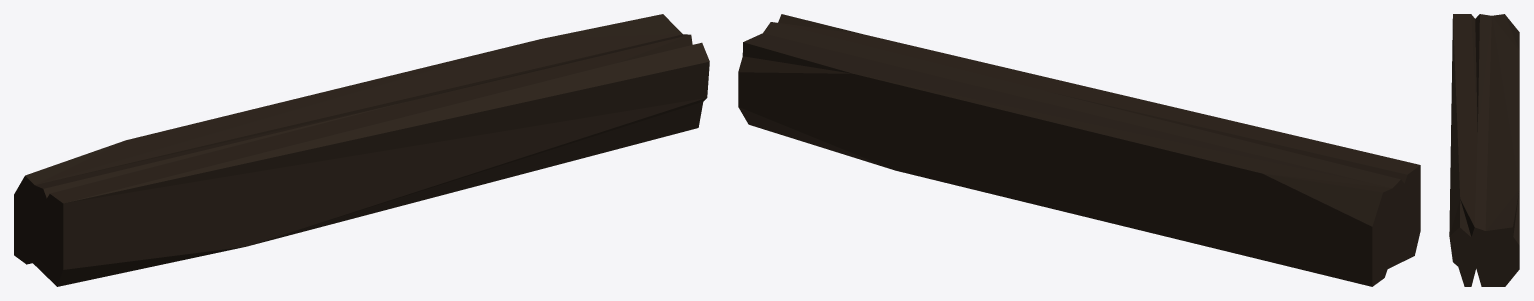
File: Wood_Cube.fbx
3 renders of one model, left to right at view 1: azimuth 30°, elevation 25°; view 2: azimuth 150°, elevation 25°; view 3: azimuth 270°, elevation 25°, orthographic. The views are drawn at different scales.
Visible parts, largest first — view 1: Wood_Cube; view 2: Wood_Cube; view 3: Wood_Cube.
Boxes of the visible parts, box(x1,y1,x2,y2) form: Wood_Cube: box(14, 14, 709, 286); Wood_Cube: box(738, 14, 1420, 286); Wood_Cube: box(1449, 14, 1519, 286).
Bounding box in the file's own units: 1124 × 147 × 156.
